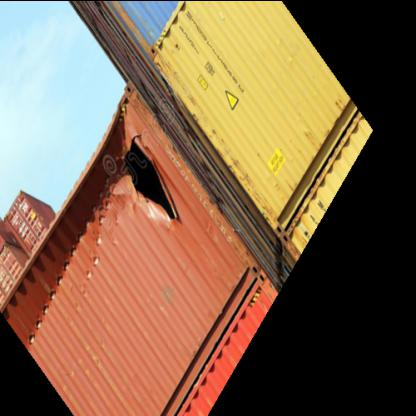Damage: (96, 124, 178, 228), (35, 178, 97, 258)
